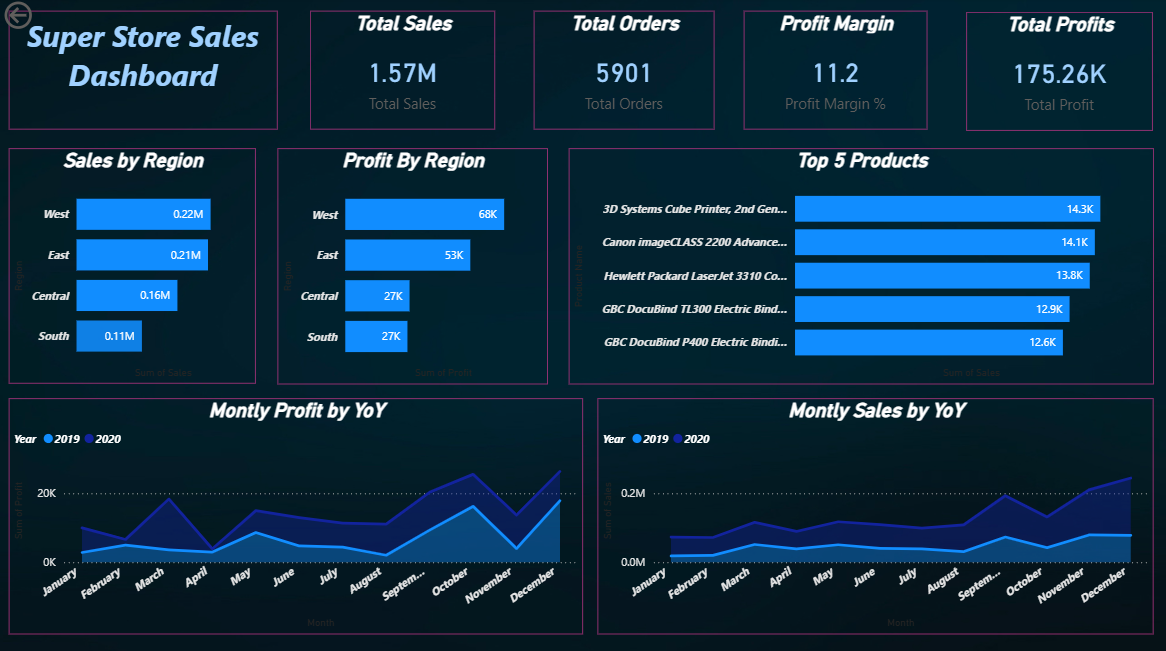

The page's visual inventory and layout, read from the dashboard file:
{"tool":"powerbi","page":{"name":"Dashboard","canvas":[1280,720],"ordinal":0},"visuals":[{"type":"barChart","title":" Sales by Region","fields":{"Category":["SuperStore_Sales_Dataset.Region"],"Y":["Sum(SuperStore_Sales_Dataset.Sales)"]},"box":[10,166.2,271.2,258.8],"z":0},{"type":"clusteredBarChart","title":"Top 5 Products","fields":{"Category":["SuperStore_Sales_Dataset.Product Name"],"Y":["Sum(SuperStore_Sales_Dataset.Sales)"]},"box":[623.7,166.1,642.4,259.3],"z":1000},{"type":"clusteredBarChart","title":"Profit By Region","fields":{"Category":["SuperStore_Sales_Dataset.Region"],"Y":["Sum(SuperStore_Sales_Dataset.Profit)"]},"box":[305.1,166.1,296.6,259.3],"z":2000},{"type":"stackedAreaChart","title":"Montly Sales by YoY","fields":{"Y":["Sum(SuperStore_Sales_Dataset.Sales)"],"Category":["SuperStore_Sales_Dataset.Order Date.Variation.Date Hierarchy.Month","SuperStore_Sales_Dataset.Order Date.Variation.Date Hierarchy.Day"],"Series":["SuperStore_Sales_Dataset.Order Date.Variation.Date Hierarchy.Year"]},"box":[655.9,440.7,610.2,259.3],"z":3000},{"type":"stackedAreaChart","title":"Montly Profit by YoY","fields":{"Category":["SuperStore_Sales_Dataset.Order Date.Variation.Date Hierarchy.Month","SuperStore_Sales_Dataset.Order Date.Variation.Date Hierarchy.Day"],"Series":["SuperStore_Sales_Dataset.Order Date.Variation.Date Hierarchy.Year"],"Y":["Sum(SuperStore_Sales_Dataset.Profit)"]},"box":[10.2,440.7,630.5,259.3],"z":4000},{"type":"textbox","box":[10.2,15.3,294.9,130.5],"z":5000},{"type":"card","title":"Total Sales","fields":{"Values":["SuperStore_Sales_Dataset.Total Sales"]},"box":[340.7,15.3,203.4,130.5],"z":6000},{"type":"card","title":"Profit Margin","fields":{"Values":["SuperStore_Sales_Dataset.Profit Margin %"]},"box":[816.9,15.3,201.7,130.5],"z":7000},{"type":"card","title":"Total Profits","fields":{"Values":["SuperStore_Sales_Dataset.Total Profit"]},"box":[1061,16.9,205.1,130.5],"z":8000},{"type":"card","title":"Total Orders","fields":{"Values":["SuperStore_Sales_Dataset.Total Orders"]},"box":[586.4,15.3,198.3,130.5],"z":9000},{"type":"actionButton","box":[0,0,100,40],"z":10000}]}

Visuals, with their boxes in screenshot pixels (x1, y1, x2, y2), scaled from the page's 1280x720 canvas onto the 1166x651 screenshot:
" Sales by Region" barChart: bbox=(9, 150, 256, 384)
"Top 5 Products" clusteredBarChart: bbox=(568, 150, 1153, 385)
"Profit By Region" clusteredBarChart: bbox=(278, 150, 548, 385)
"Montly Sales by YoY" stackedAreaChart: bbox=(597, 398, 1153, 633)
"Montly Profit by YoY" stackedAreaChart: bbox=(9, 398, 584, 633)
textbox: bbox=(9, 14, 278, 132)
"Total Sales" card: bbox=(310, 14, 496, 132)
"Profit Margin" card: bbox=(744, 14, 928, 132)
"Total Profits" card: bbox=(967, 15, 1153, 133)
"Total Orders" card: bbox=(534, 14, 715, 132)
actionButton: bbox=(0, 0, 91, 36)
